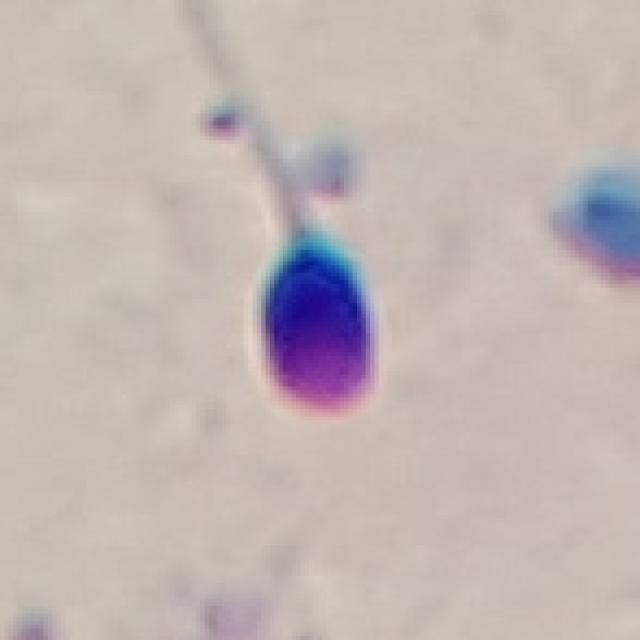normal sperm: (246, 147, 381, 419)
